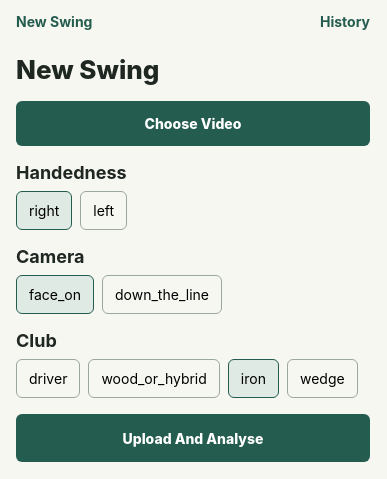
shows a busy upload state before the API responds
Click the text "Choose Video" at (193, 124), box [144,115,241,132]
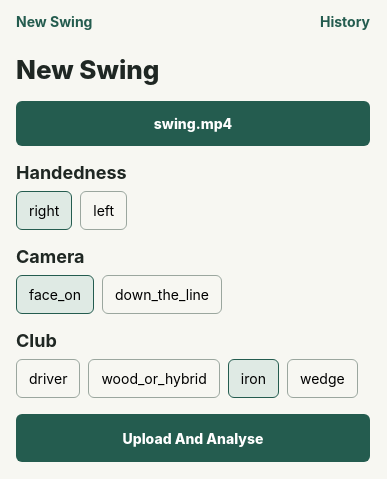
Now the text "swing.mp4" is shown, box [154,115,232,132]
Click the text "Upload And Analyse" at (193, 438), box [122,430,263,446]
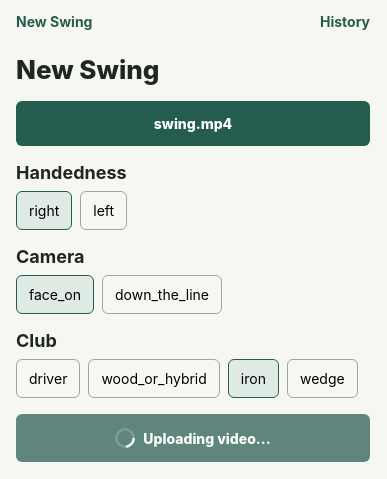
Now the text "Uploading video..." is shown, box [143,430,271,446]
